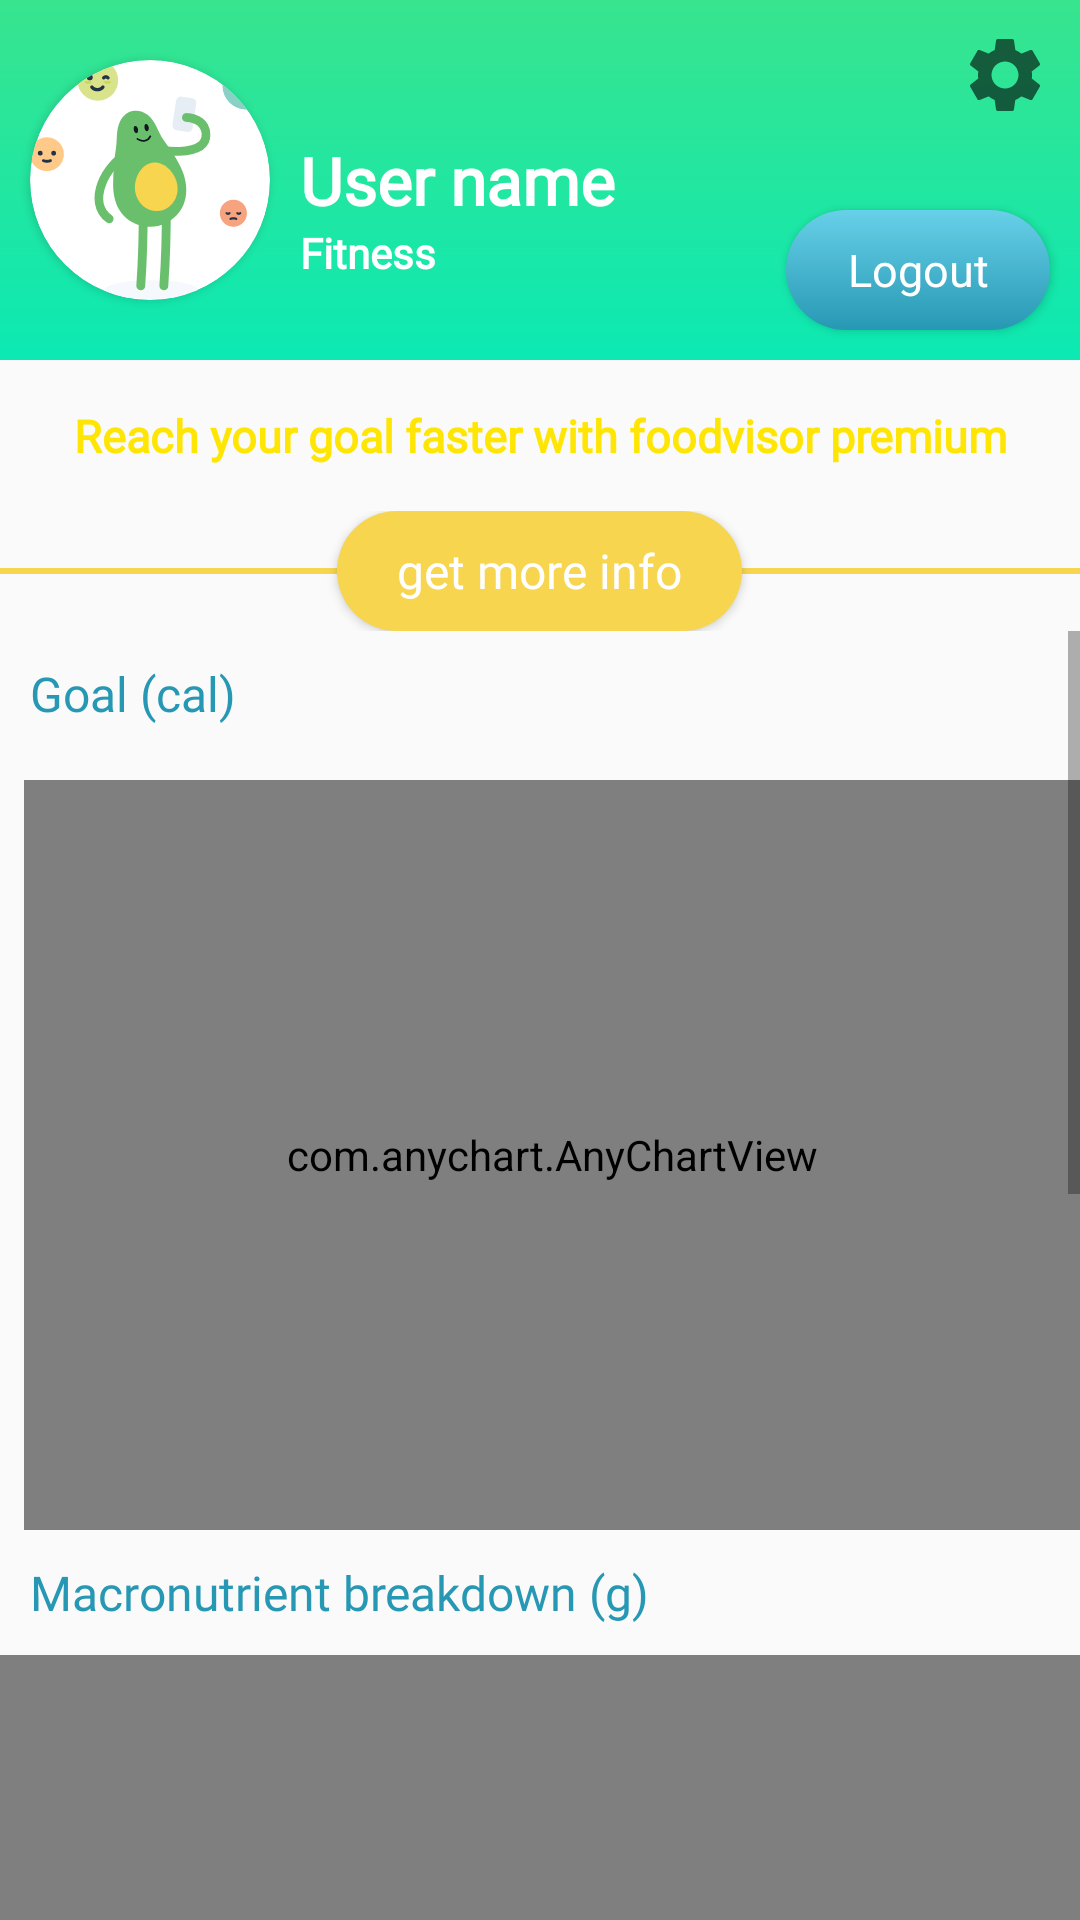

Where icons sit on this 1080w x 1920h app screen, as (x1, y1, x2, y2):
settings: (970, 39, 1040, 111)
